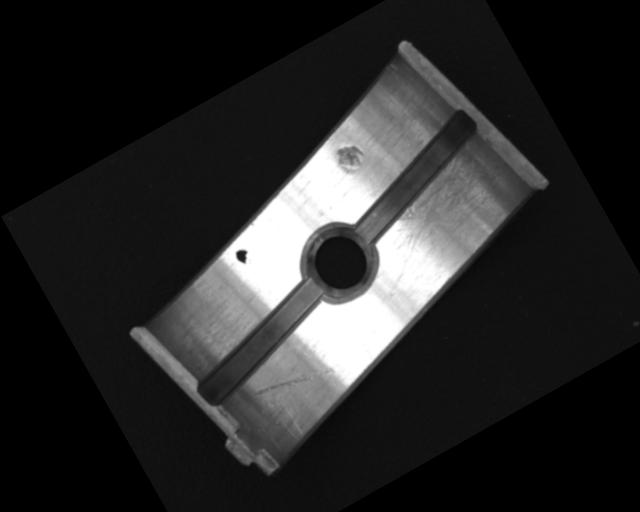blot: (232, 245, 254, 269)
bruise: (329, 138, 371, 180)
gap: (329, 107, 502, 248), (175, 273, 346, 410)
hole: (292, 215, 388, 310)
nick: (251, 351, 335, 413)
scratch: (355, 135, 527, 283)
